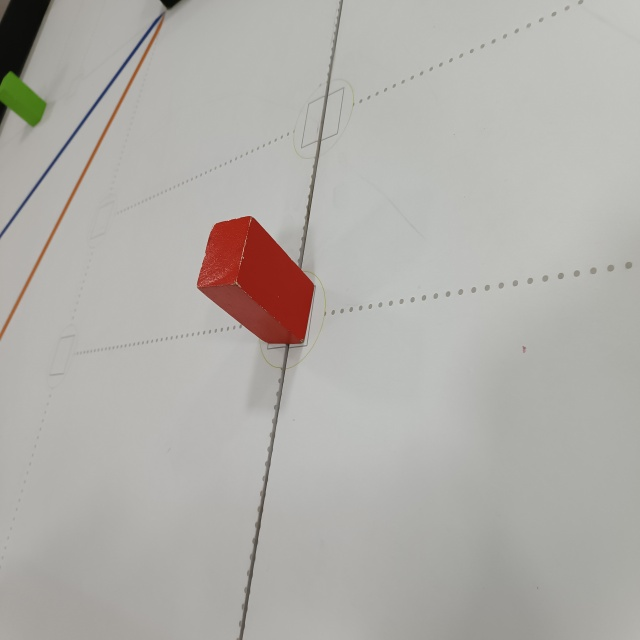blue line: (0, 10, 169, 241)
green rectangular prism: (0, 66, 48, 132)
orange line: (0, 14, 169, 347)
red rectangular prism: (197, 212, 318, 352)
